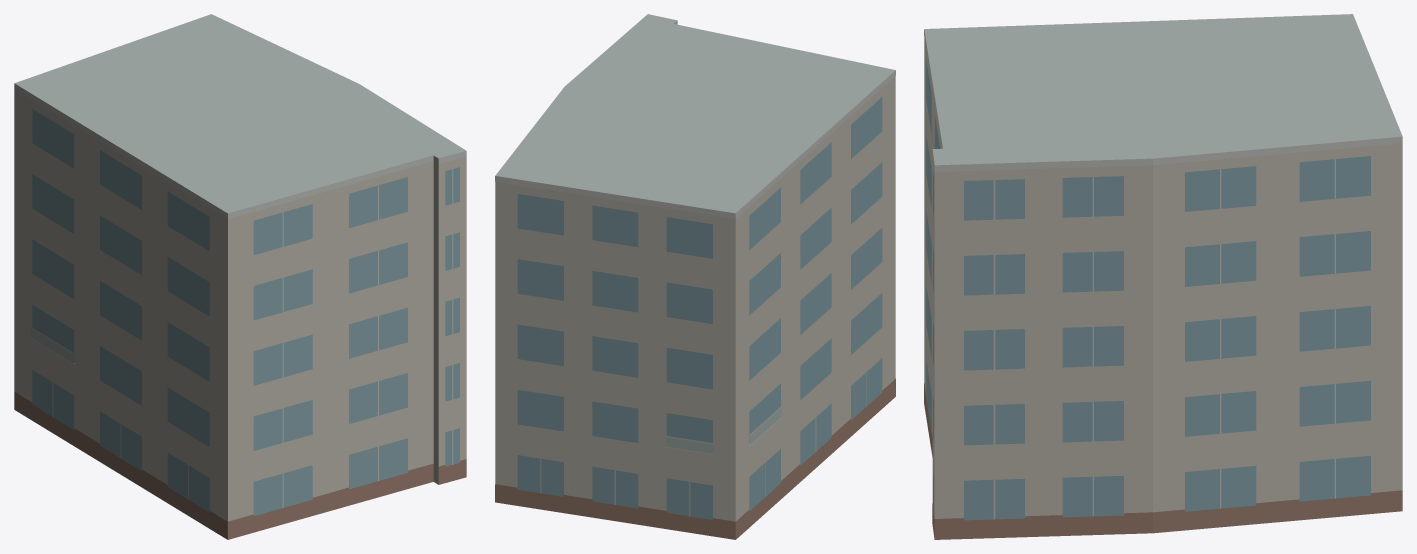
Rendered from survey-upis-32817469.glb.
The picture shows the model from 3 angles, left to right: view 1: azimuth 30°, elevation 25°; view 2: azimuth 150°, elevation 25°; view 3: azimuth 270°, elevation 25°; orthographic projection. The views are drawn at different scales.
Visible parts, largest first — view 1: survey-upis-32817469.tmp; view 2: survey-upis-32817469.tmp; view 3: survey-upis-32817469.tmp.
Part boxes in pixels (x1=…): survey-upis-32817469.tmp: x1=14, y1=14, x2=466, y2=539; survey-upis-32817469.tmp: x1=495, y1=14, x2=895, y2=539; survey-upis-32817469.tmp: x1=924, y1=14, x2=1402, y2=539.
Size of the model in its own units: 12.07 by 13.93 by 16.13.
